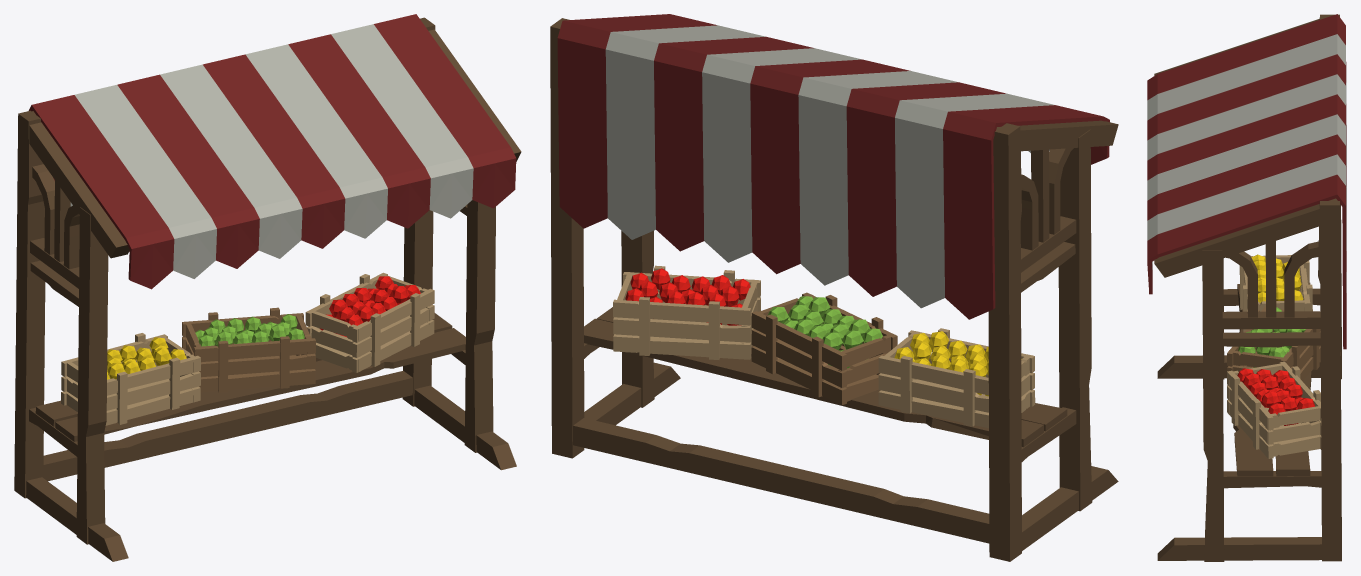
The model's file is FH_Shop2.fbx.
3 renders of one model, left to right at view 1: azimuth 30°, elevation 25°; view 2: azimuth 150°, elevation 25°; view 3: azimuth 270°, elevation 25°, orthographic. The views are drawn at different scales.
Visible parts, largest first — view 1: Market Scene.004; view 2: Market Scene.004; view 3: Market Scene.004.
Part boxes in pixels (box(x1,y1,x2,y2)): Market Scene.004: box(14, 14, 521, 561); Market Scene.004: box(550, 14, 1118, 561); Market Scene.004: box(1147, 14, 1346, 561).
Bounding box in the file's own units: 1750 × 1585 × 781.
